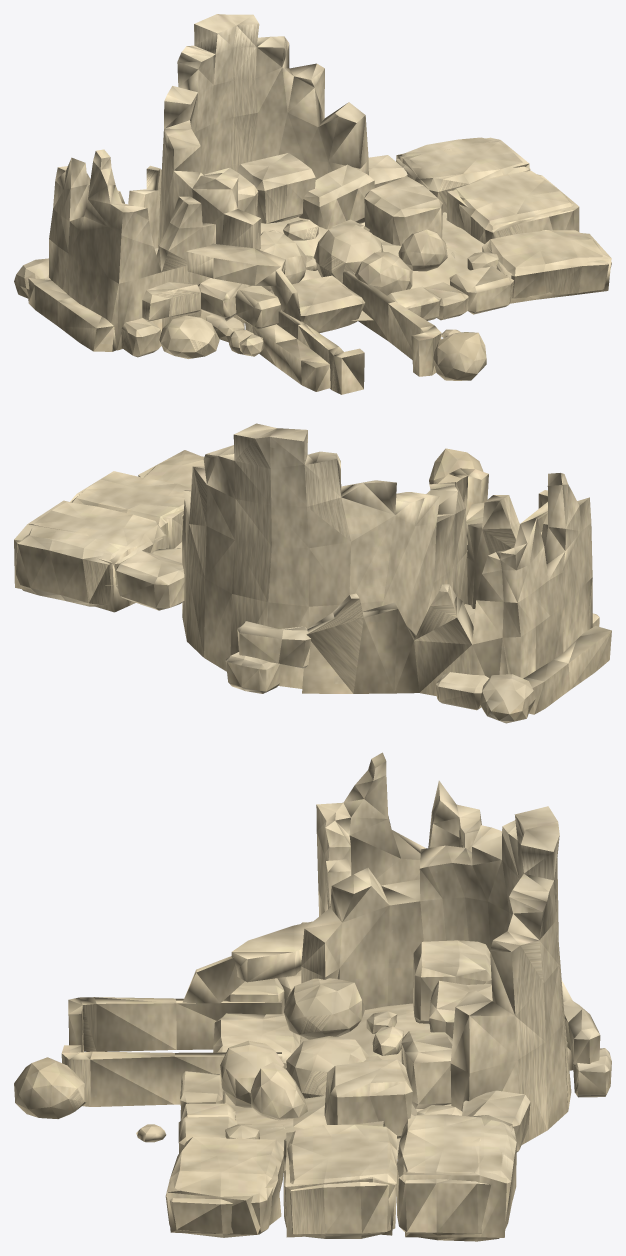
3 renders of one model, top to bottom at view 1: azimuth 30°, elevation 25°; view 2: azimuth 150°, elevation 25°; view 3: azimuth 270°, elevation 25°, orthographic. The views are drawn at different scales.
Visible parts, largest first — view 1: castle_d4; view 2: castle_d4; view 3: castle_d4.
Part boxes in pixels (bbox=[...]): castle_d4: bbox=[14, 14, 611, 394]; castle_d4: bbox=[14, 423, 611, 723]; castle_d4: bbox=[14, 752, 611, 1241].
Size of the model in its own units: 2.9 by 1.32 by 2.6.
Materials: 1 (1 with a texture image).
